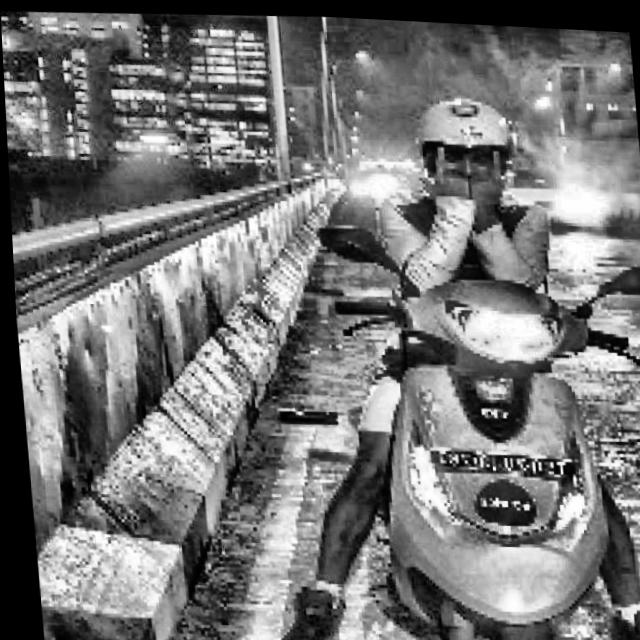motorcycle: (269, 208, 640, 640)
